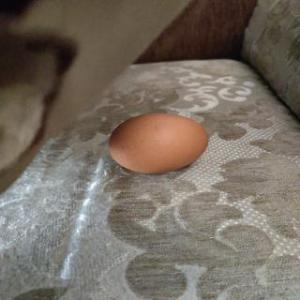egg: (107, 112, 213, 176)
